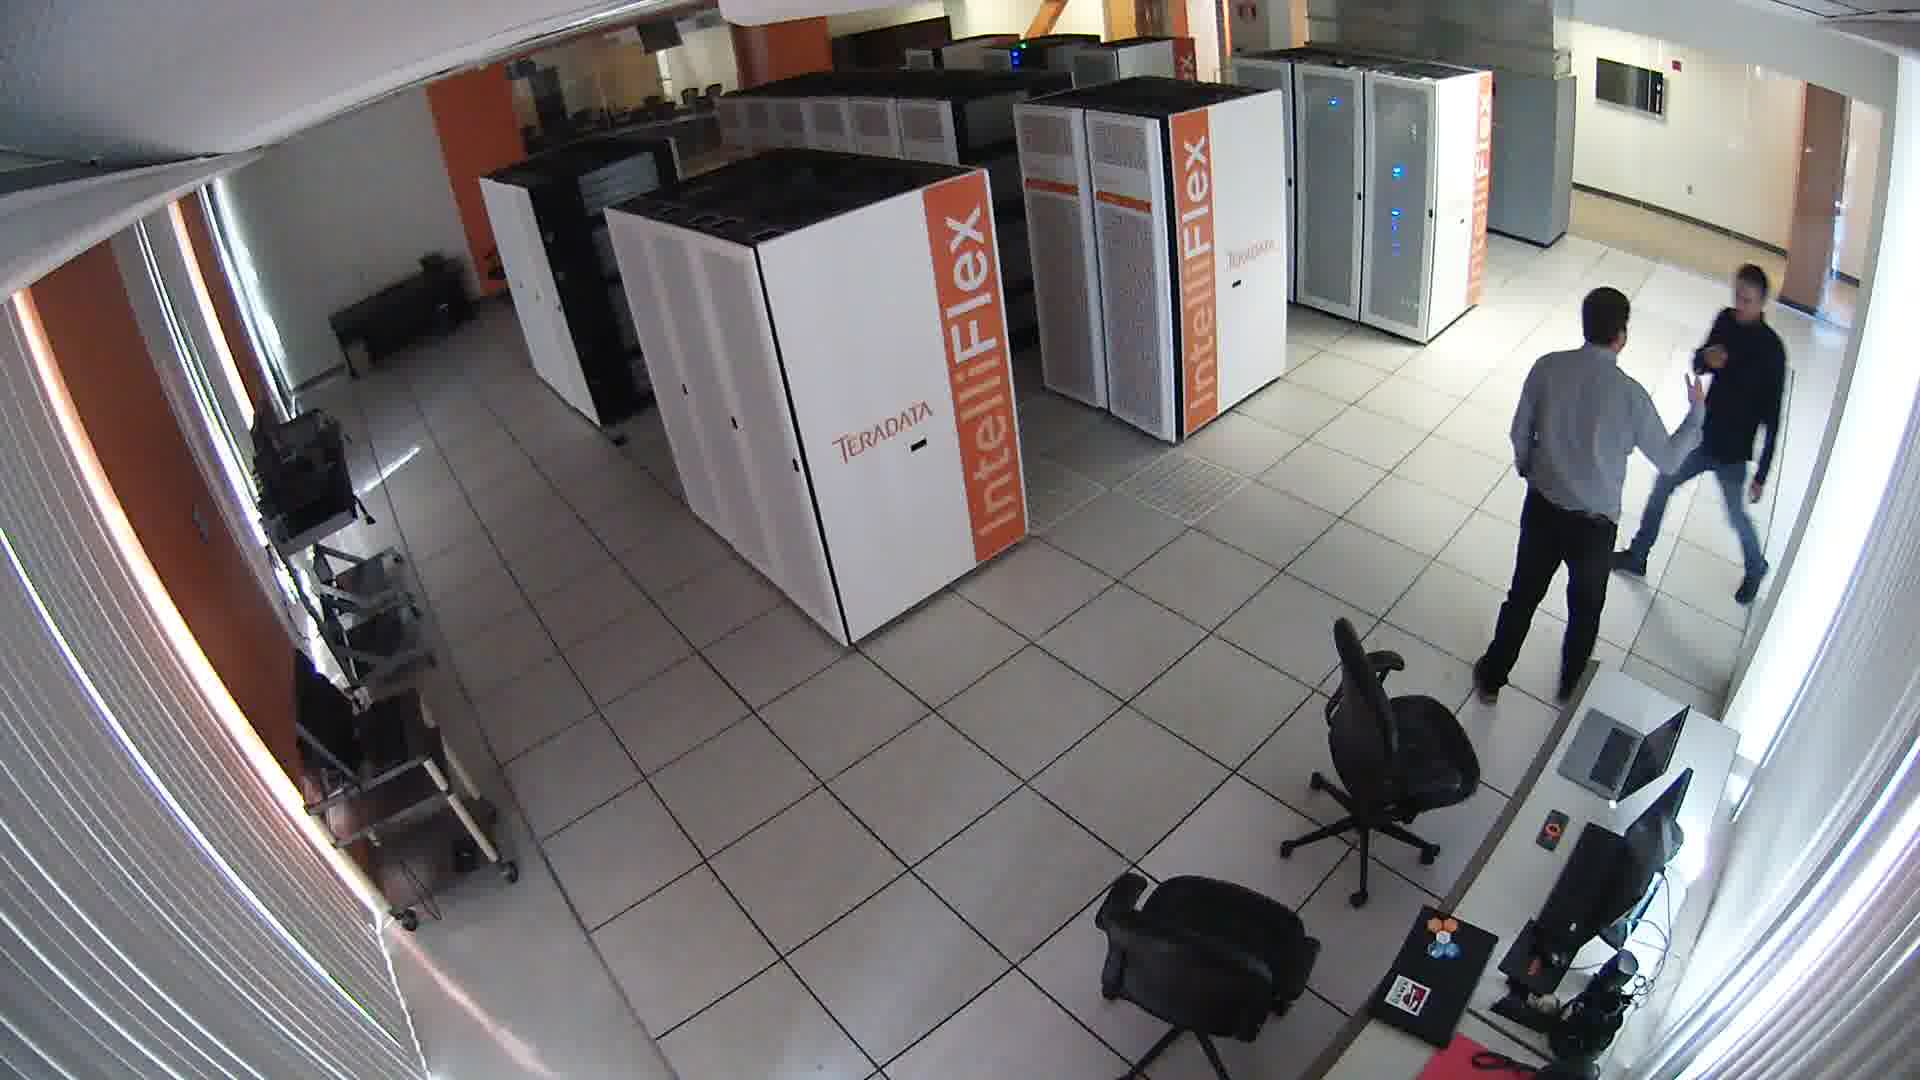person: (1477, 249, 1639, 698), (1650, 228, 1802, 625)
